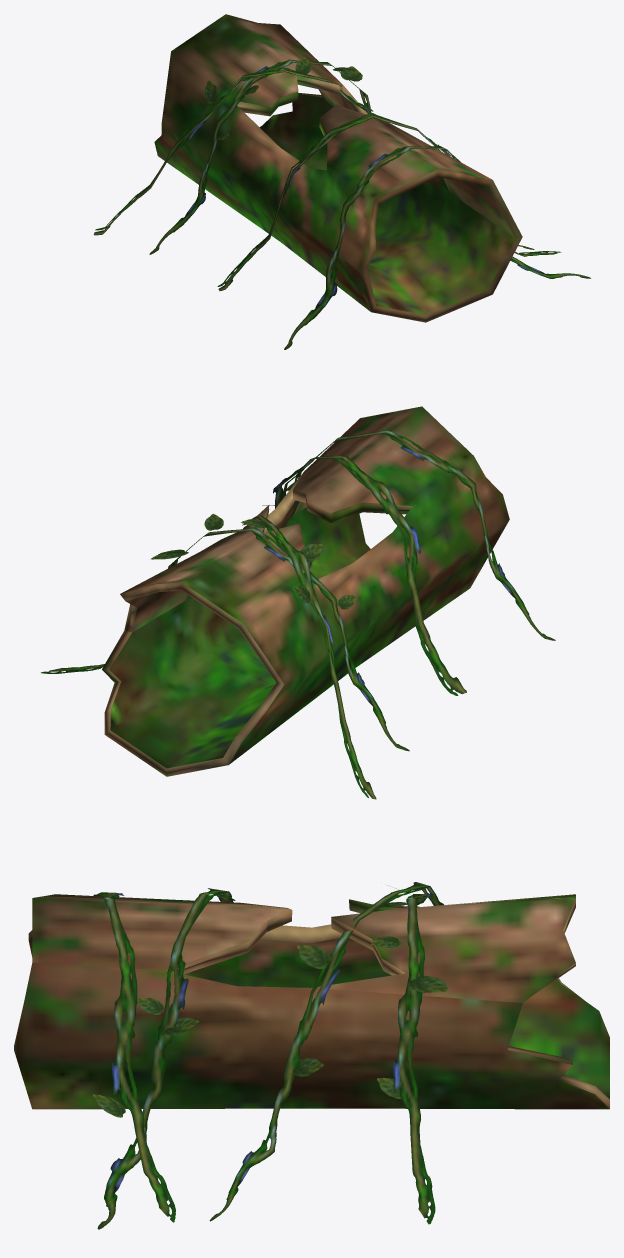
The model's file is Battle01_Tree irrigation_01.FBX.
3 views of the same model, one above another, from view 1: azimuth 30°, elevation 25°; view 2: azimuth 150°, elevation 25°; view 3: azimuth 270°, elevation 25° (orthographic). The views are drawn at different scales.
Visible parts, largest first — view 1: C01_Tree irrigation_01, C01_Tree irrigation_01_ncl1_1; view 2: C01_Tree irrigation_01, C01_Tree irrigation_01_ncl1_1; view 3: C01_Tree irrigation_01, C01_Tree irrigation_01_ncl1_1.
Boxes of the visible parts, x1,y1,x2,y2 form: C01_Tree irrigation_01: (154,14,522,322); C01_Tree irrigation_01_ncl1_1: (93,57,590,349); C01_Tree irrigation_01: (102,406,509,776); C01_Tree irrigation_01_ncl1_1: (41,429,555,799); C01_Tree irrigation_01: (14,894,609,1109); C01_Tree irrigation_01_ncl1_1: (93,882,449,1229).
Bounding box in the file's own units: 2.25 × 0.988 × 2.25.
